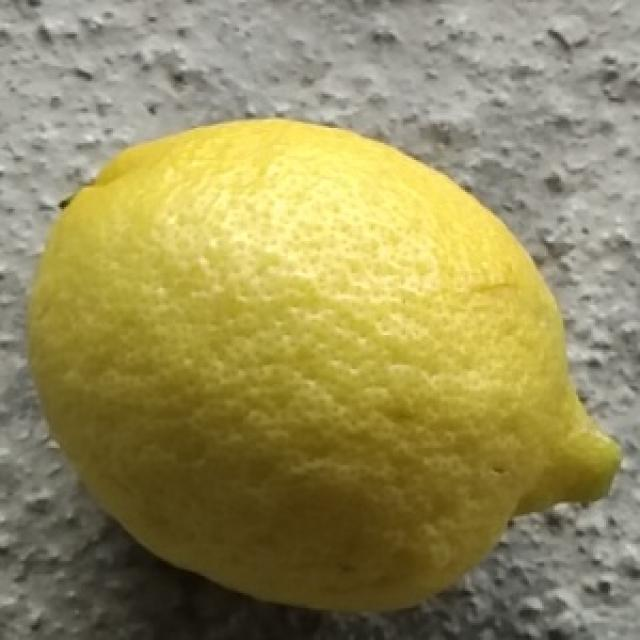Ripe: (23, 111, 626, 614)
